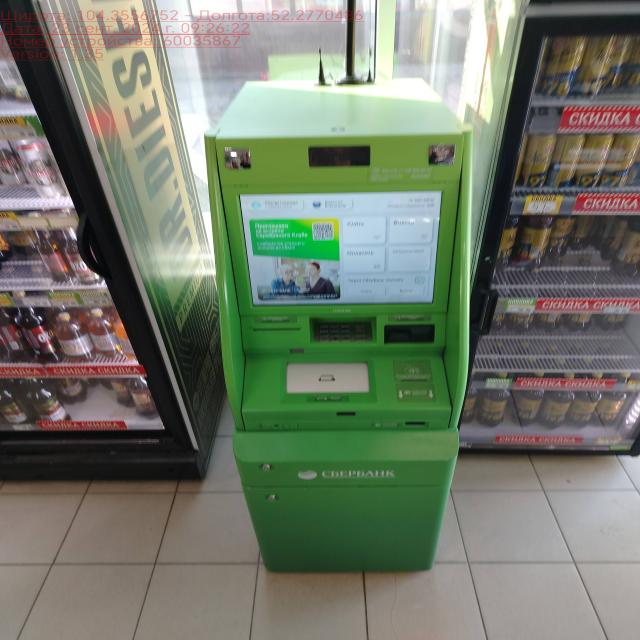bank: (205, 83, 482, 578)
